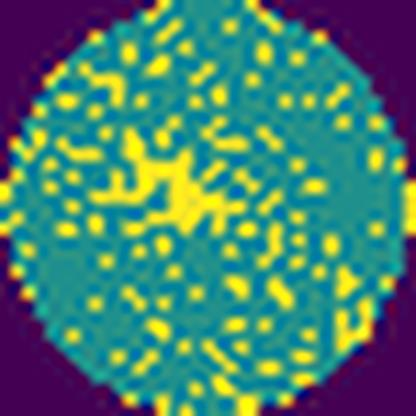Loc: (91, 130, 241, 237)
